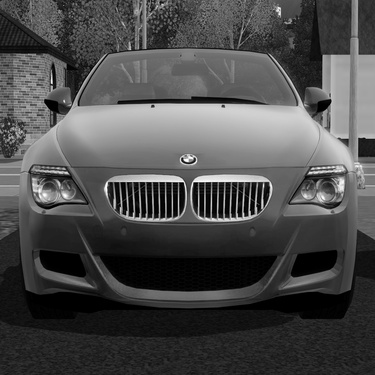car: (14, 47, 366, 329)
